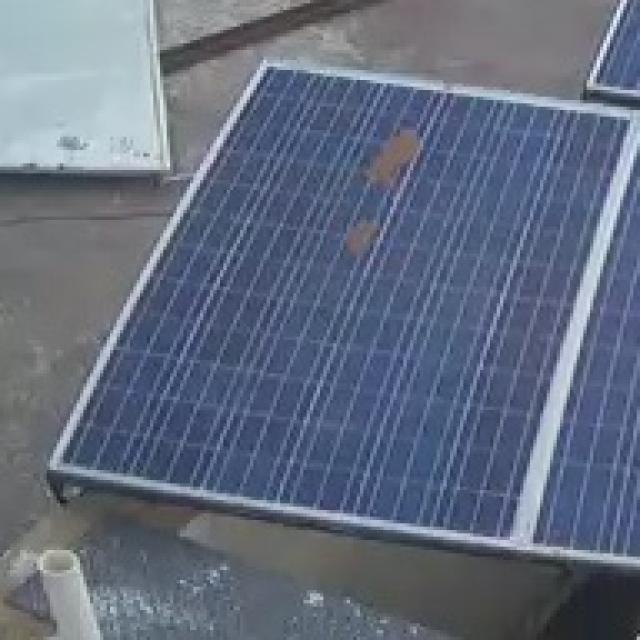Dusty: (362, 114, 429, 202), (336, 224, 388, 266)
